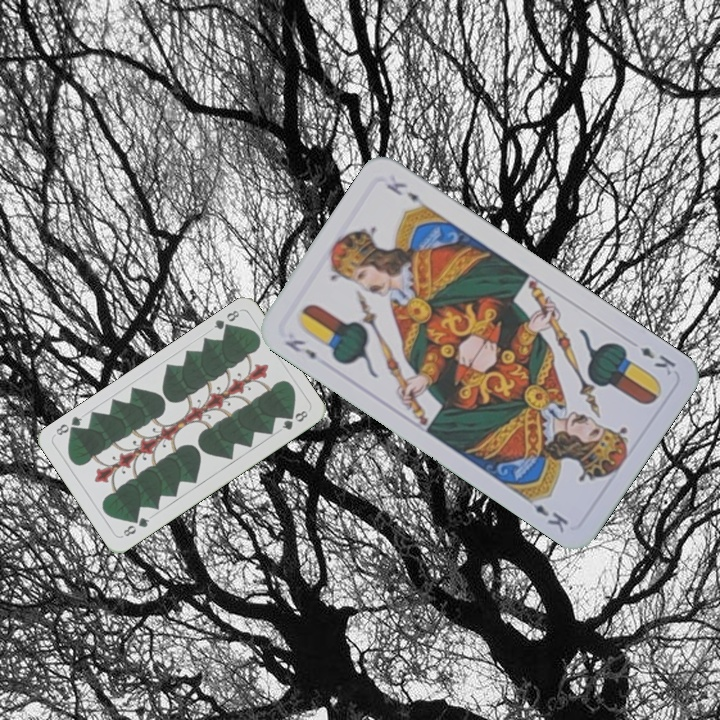EK: (636, 342, 679, 378), (280, 335, 319, 362)
G8: (210, 306, 242, 335), (118, 513, 152, 540)
